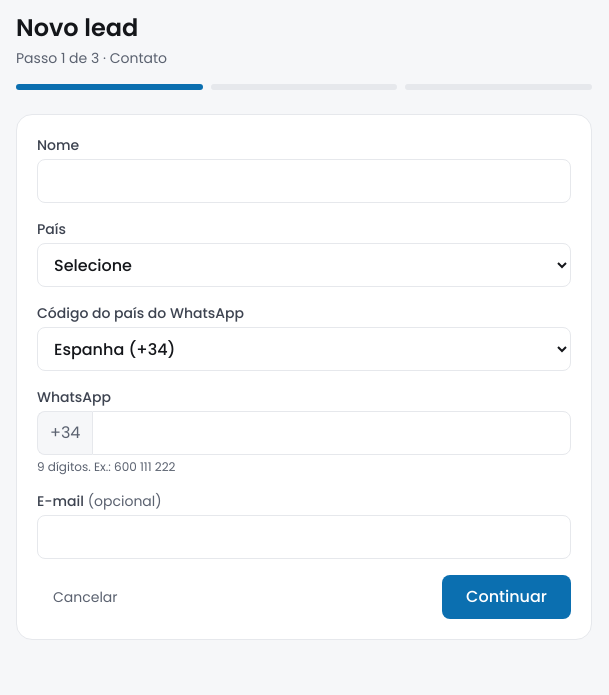
cadastro de lead › mostra o erro que o banco devolve
Type "Ana" into the field labelled "Nome" at {"x": 304, "y": 181}, box top-left (37, 159), bottom-right (571, 203)
Select "Espanha" in the dropdown labelled "País" at {"x": 304, "y": 265}, box top-left (37, 243), bottom-right (571, 287)
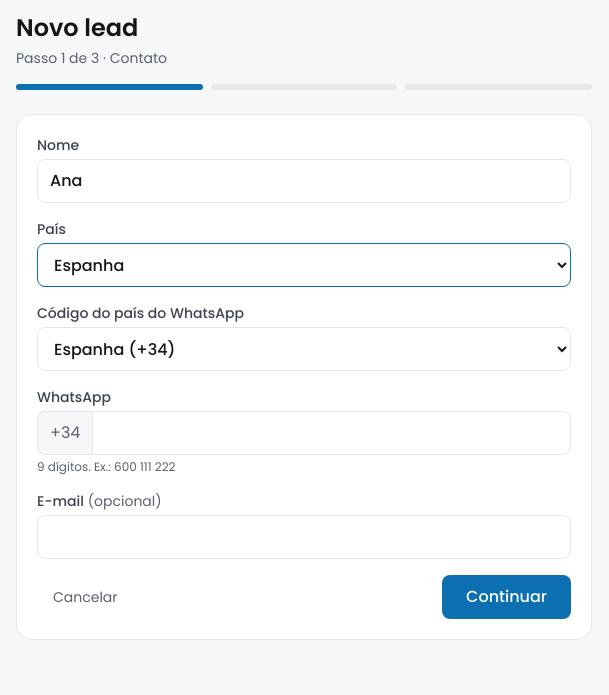
Type "600111222" into the field labelled "WhatsApp" at {"x": 332, "y": 433}, box top-left (92, 411), bottom-right (571, 455)
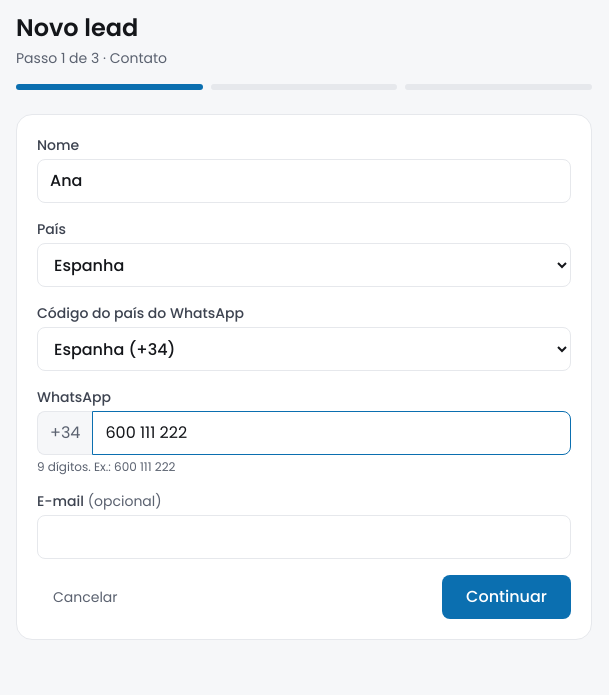
Now the field labelled "WhatsApp" holds "600 111 222", box top-left (92, 411), bottom-right (571, 455)
Click the button "Continuar" at {"x": 507, "y": 597}, box top-left (442, 575), bottom-right (571, 619)
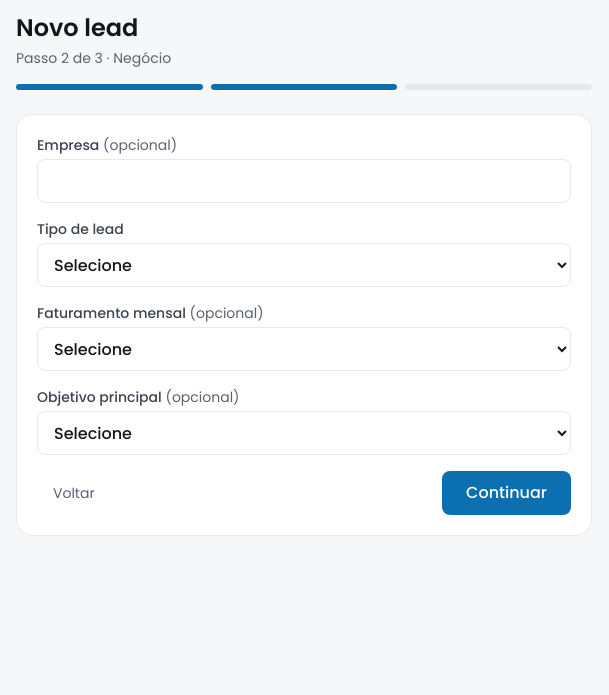
Now the text "Passo 2 de 3 · Negócio" is shown, box top-left (16, 48), bottom-right (171, 68)
Select "Gestão de tráfego" in the dropdown labelled "Tipo de lead" at {"x": 304, "y": 265}, box top-left (37, 243), bottom-right (571, 287)
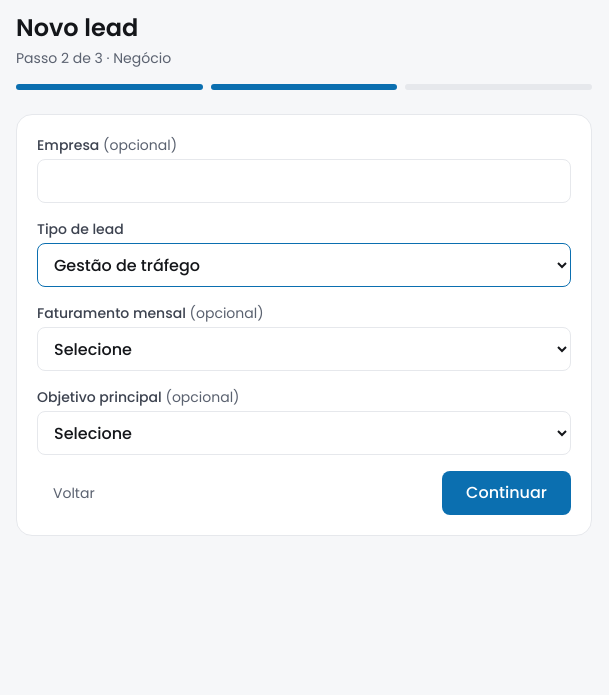
Click the button "Continuar" at {"x": 507, "y": 493}, box top-left (442, 471), bottom-right (571, 515)
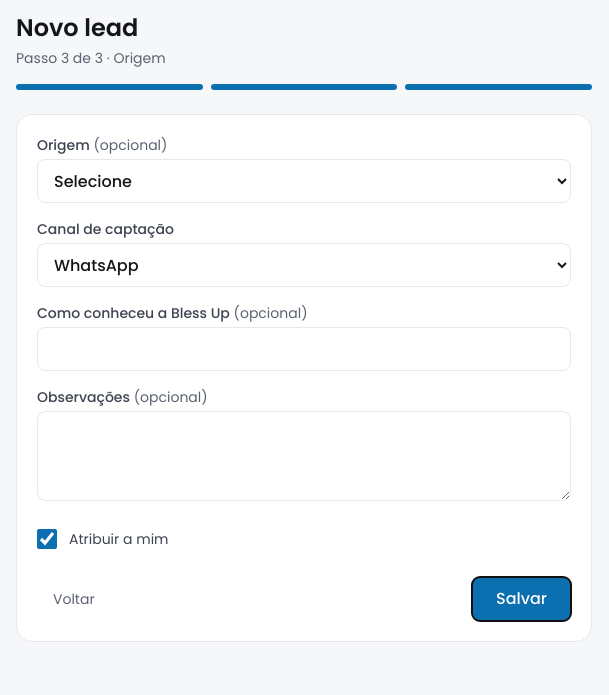
Click the button "Salvar" at {"x": 522, "y": 599}, box top-left (472, 577), bottom-right (571, 621)
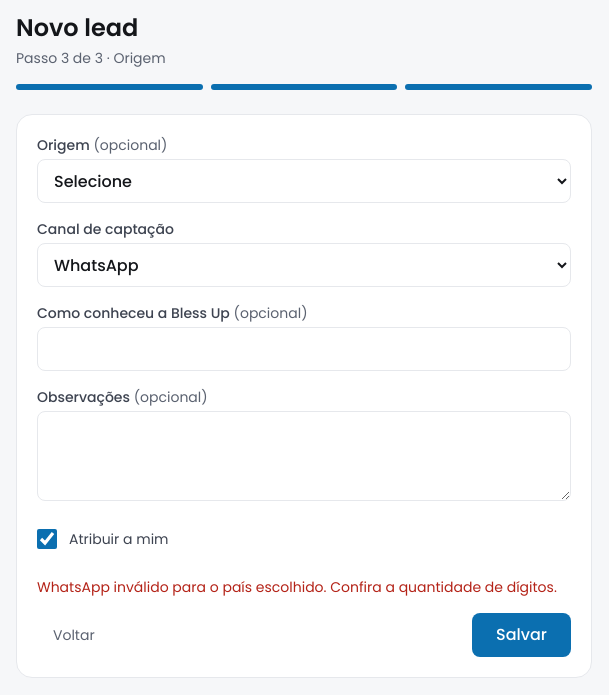
Now the message shows "WhatsApp inválido", box top-left (37, 577), bottom-right (557, 597)
